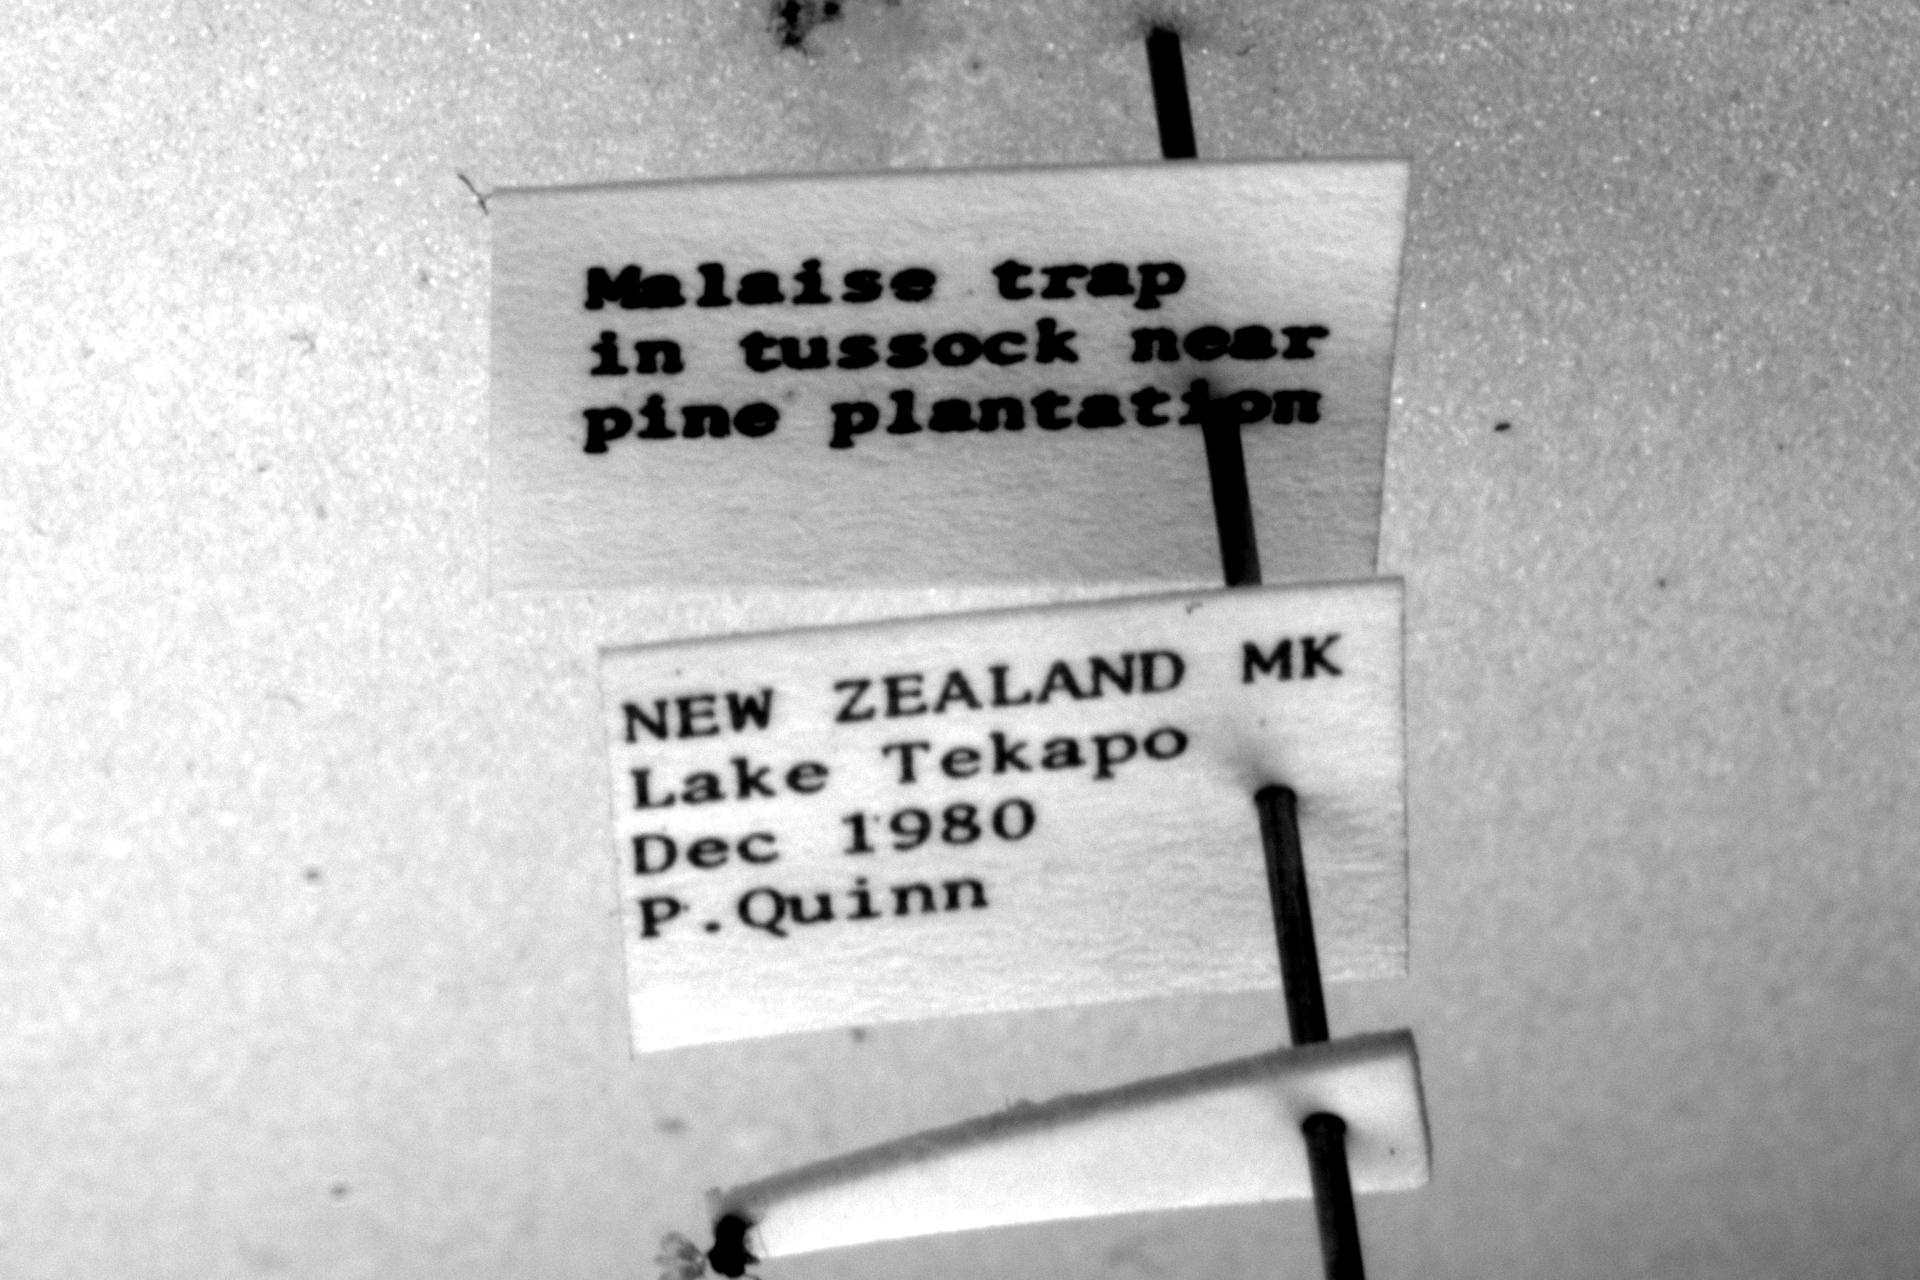typed_label: (491, 161, 1406, 593), (604, 581, 1406, 1050)
